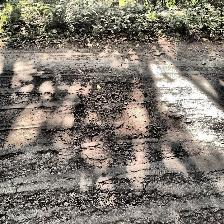pothole: (67, 79, 185, 148)
